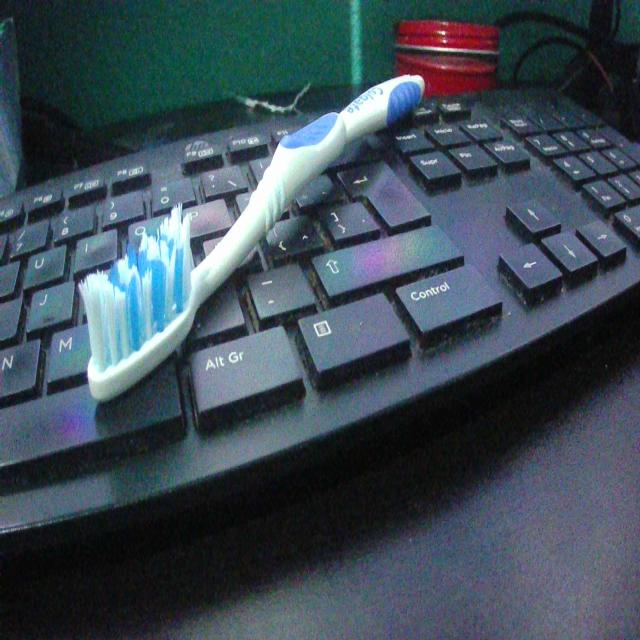Organico: (64, 68, 434, 413)
